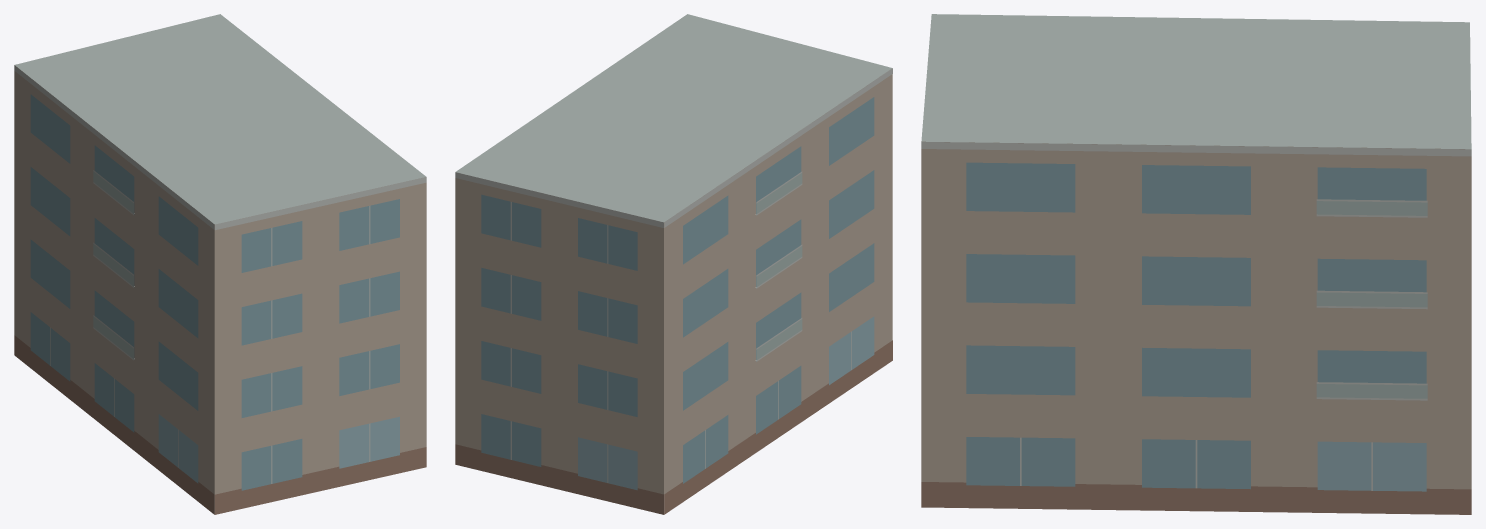
Rendered from survey-upis-32621268.glb.
3 renders of one model, left to right at view 1: azimuth 30°, elevation 25°; view 2: azimuth 150°, elevation 25°; view 3: azimuth 270°, elevation 25°, orthographic. The views are drawn at different scales.
Parts seen in each view (by area): view 1: survey-upis-32621268.tmp; view 2: survey-upis-32621268.tmp; view 3: survey-upis-32621268.tmp.
Boxes of the visible parts, x1,y1,x2,y2 form: survey-upis-32621268.tmp: (14, 14, 426, 514); survey-upis-32621268.tmp: (455, 14, 892, 514); survey-upis-32621268.tmp: (921, 14, 1471, 514).
Size of the model in its own units: 9.8 by 12.35 by 16.85.
